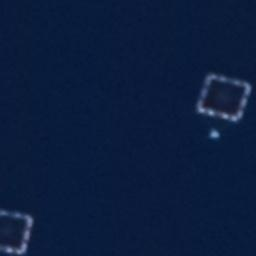square_solid: (194, 68, 254, 124), (1, 203, 33, 256)
